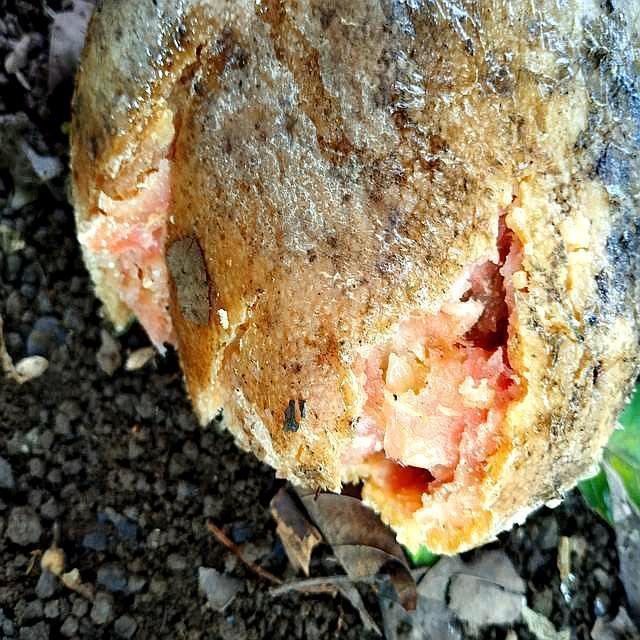Biodegradable: (69, 1, 640, 549)
